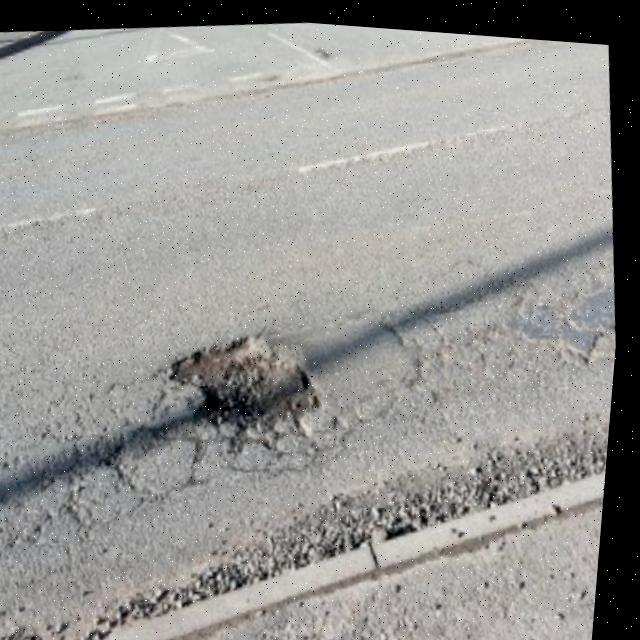Pothole: (145, 290, 359, 466)
